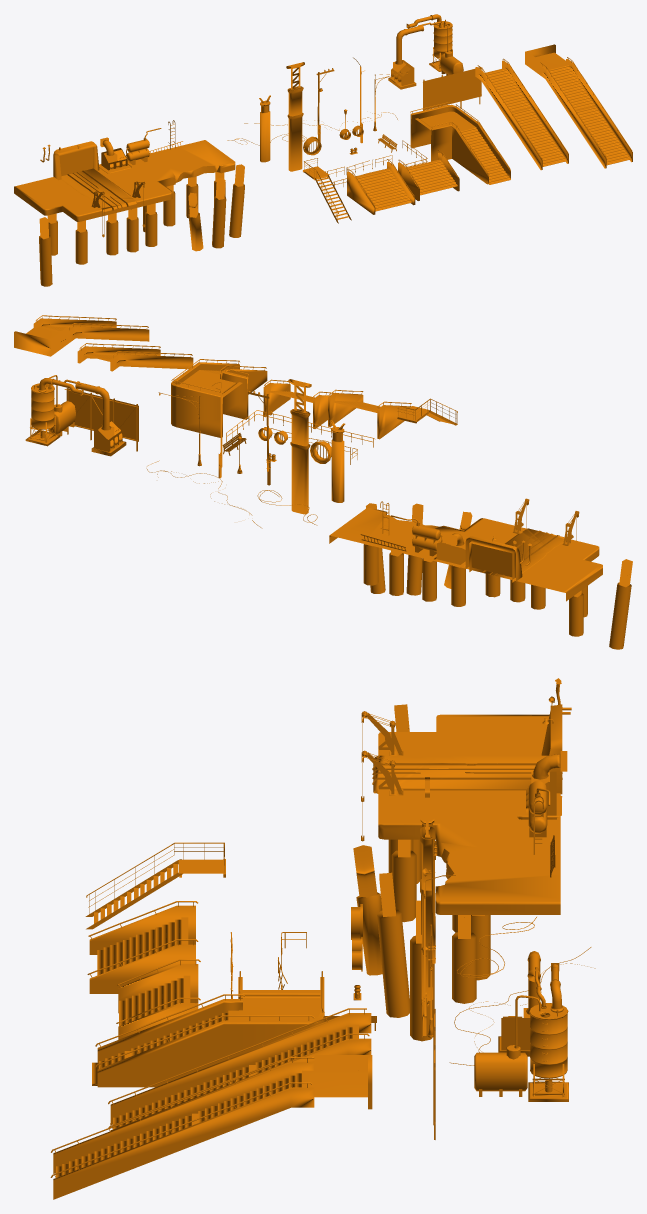
File: stairs.obj
3 renders of one model, top to bottom at view 1: azimuth 30°, elevation 25°; view 2: azimuth 150°, elevation 25°; view 3: azimuth 270°, elevation 25°, orthographic. The views are drawn at different scales.
Parts seen in each view (by area): view 1: (null); view 2: (null); view 3: (null).
Part boxes in pixels (x1,y1,x2,y2): (null): [14, 14, 632, 286]; (null): [14, 315, 632, 649]; (null): [50, 678, 595, 1199].
Bounding box in the file's own units: 63.34 × 18.56 × 29.51.
